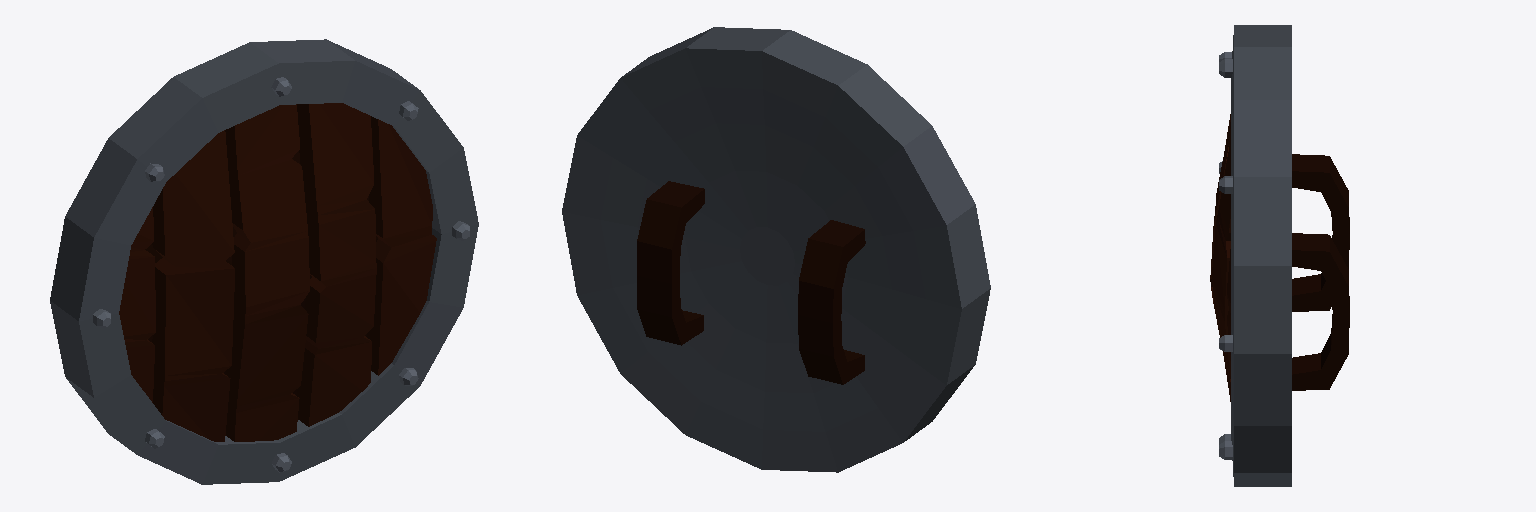
Rendered from Shield_Round.obj.
3 renders of one model, left to right at view 1: azimuth 30°, elevation 25°; view 2: azimuth 150°, elevation 25°; view 3: azimuth 270°, elevation 25°, orthographic.
Visible parts, largest first — view 1: Shield_Round_Cylinder.015; view 2: Shield_Round_Cylinder.015; view 3: Shield_Round_Cylinder.015.
Boxes of the visible parts, <box> form: Shield_Round_Cylinder.015: <box>50,39,478,484</box>; Shield_Round_Cylinder.015: <box>562,27,990,472</box>; Shield_Round_Cylinder.015: <box>1210,25,1349,486</box>.
Size of the model in its own units: 2 by 2 by 0.6037.